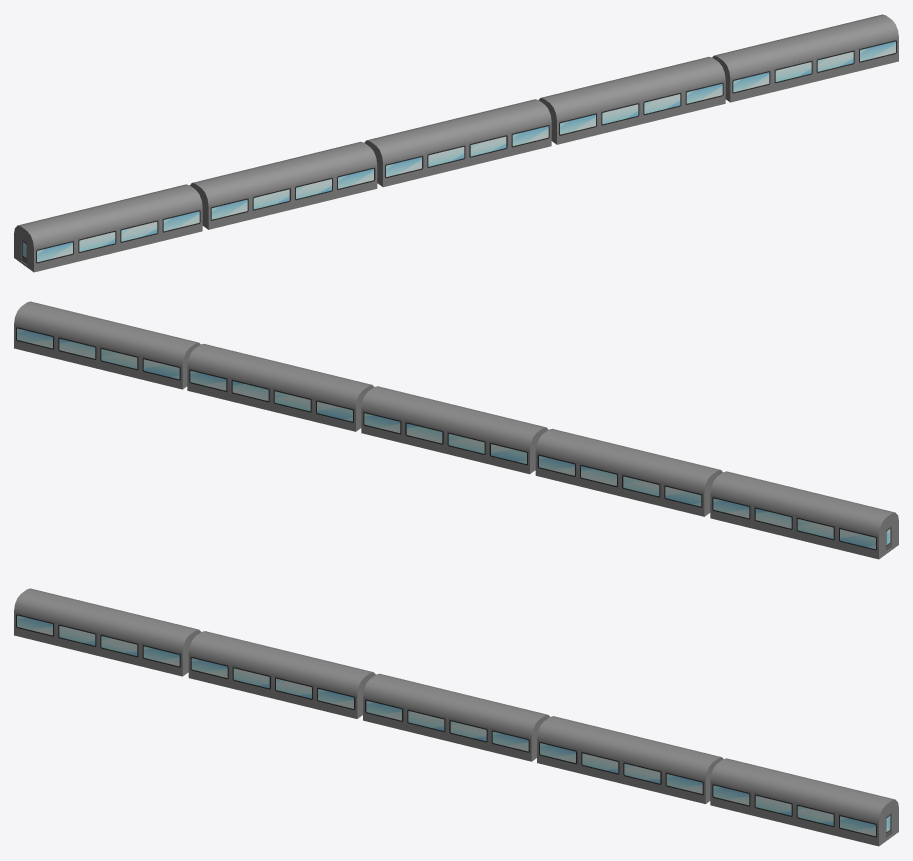
File: Train4_1.fbx
3 renders of one model, top to bottom at view 1: azimuth 30°, elevation 25°; view 2: azimuth 150°, elevation 25°; view 3: azimuth 330°, elevation 25°, orthographic.
Visible parts, largest first — view 1: Plane.156; view 2: Plane.156; view 3: Plane.156.
Boxes of the visible parts, x1,y1,x2,y2 form: Plane.156: [14, 14, 898, 272]; Plane.156: [14, 301, 898, 559]; Plane.156: [14, 588, 898, 846].
Bounding box in the file's own units: 14863 × 600 × 595.
